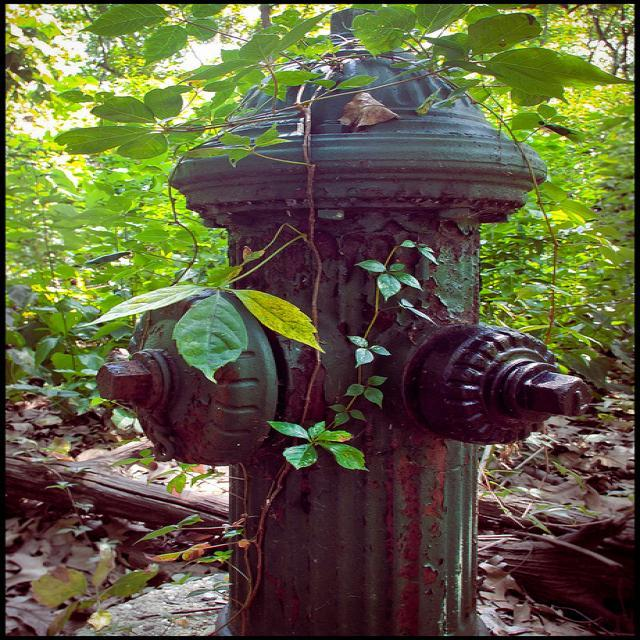fire_hydrant: (93, 6, 586, 582)
